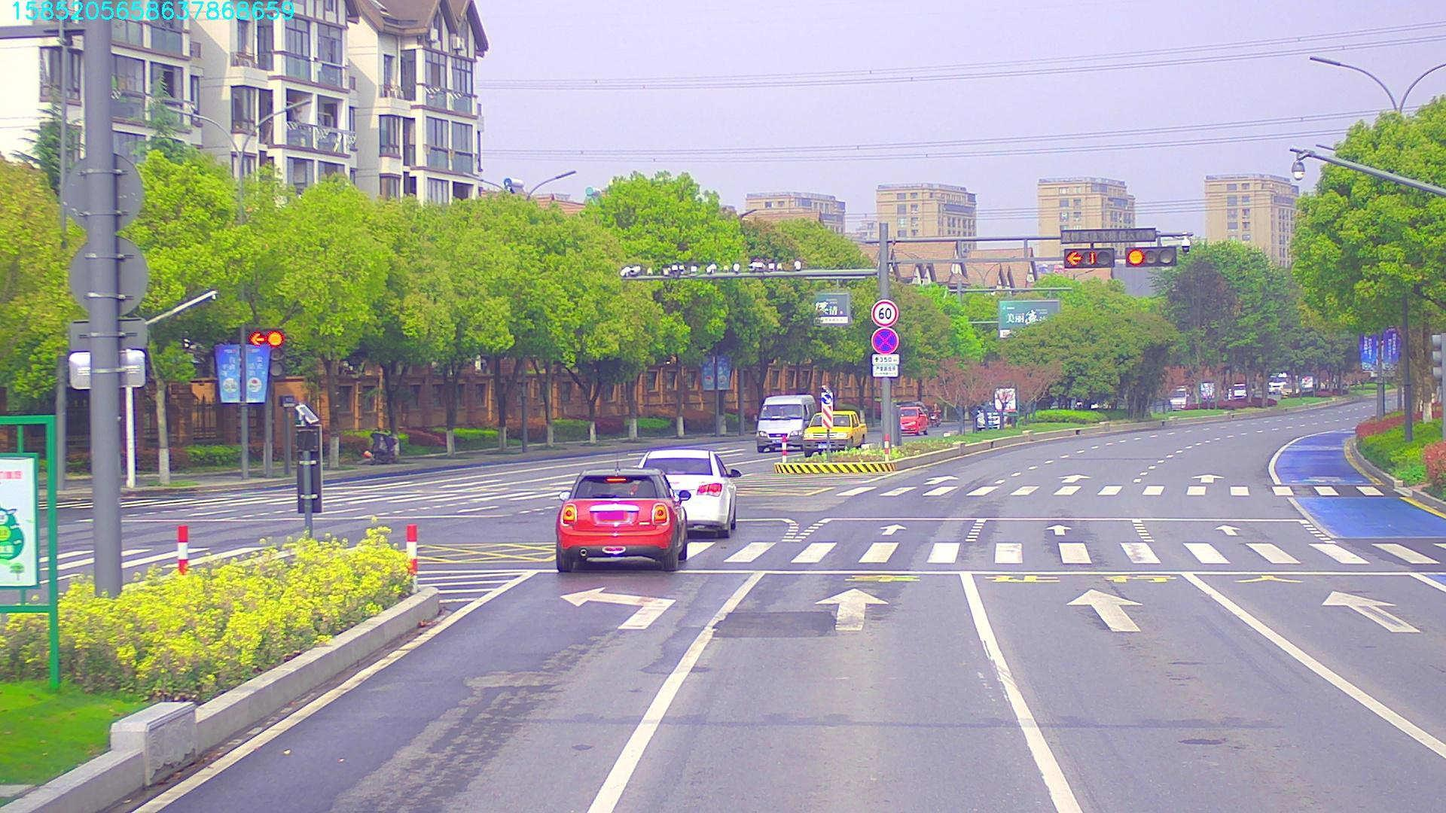red: (1132, 246, 1188, 266), (1063, 250, 1123, 268)
